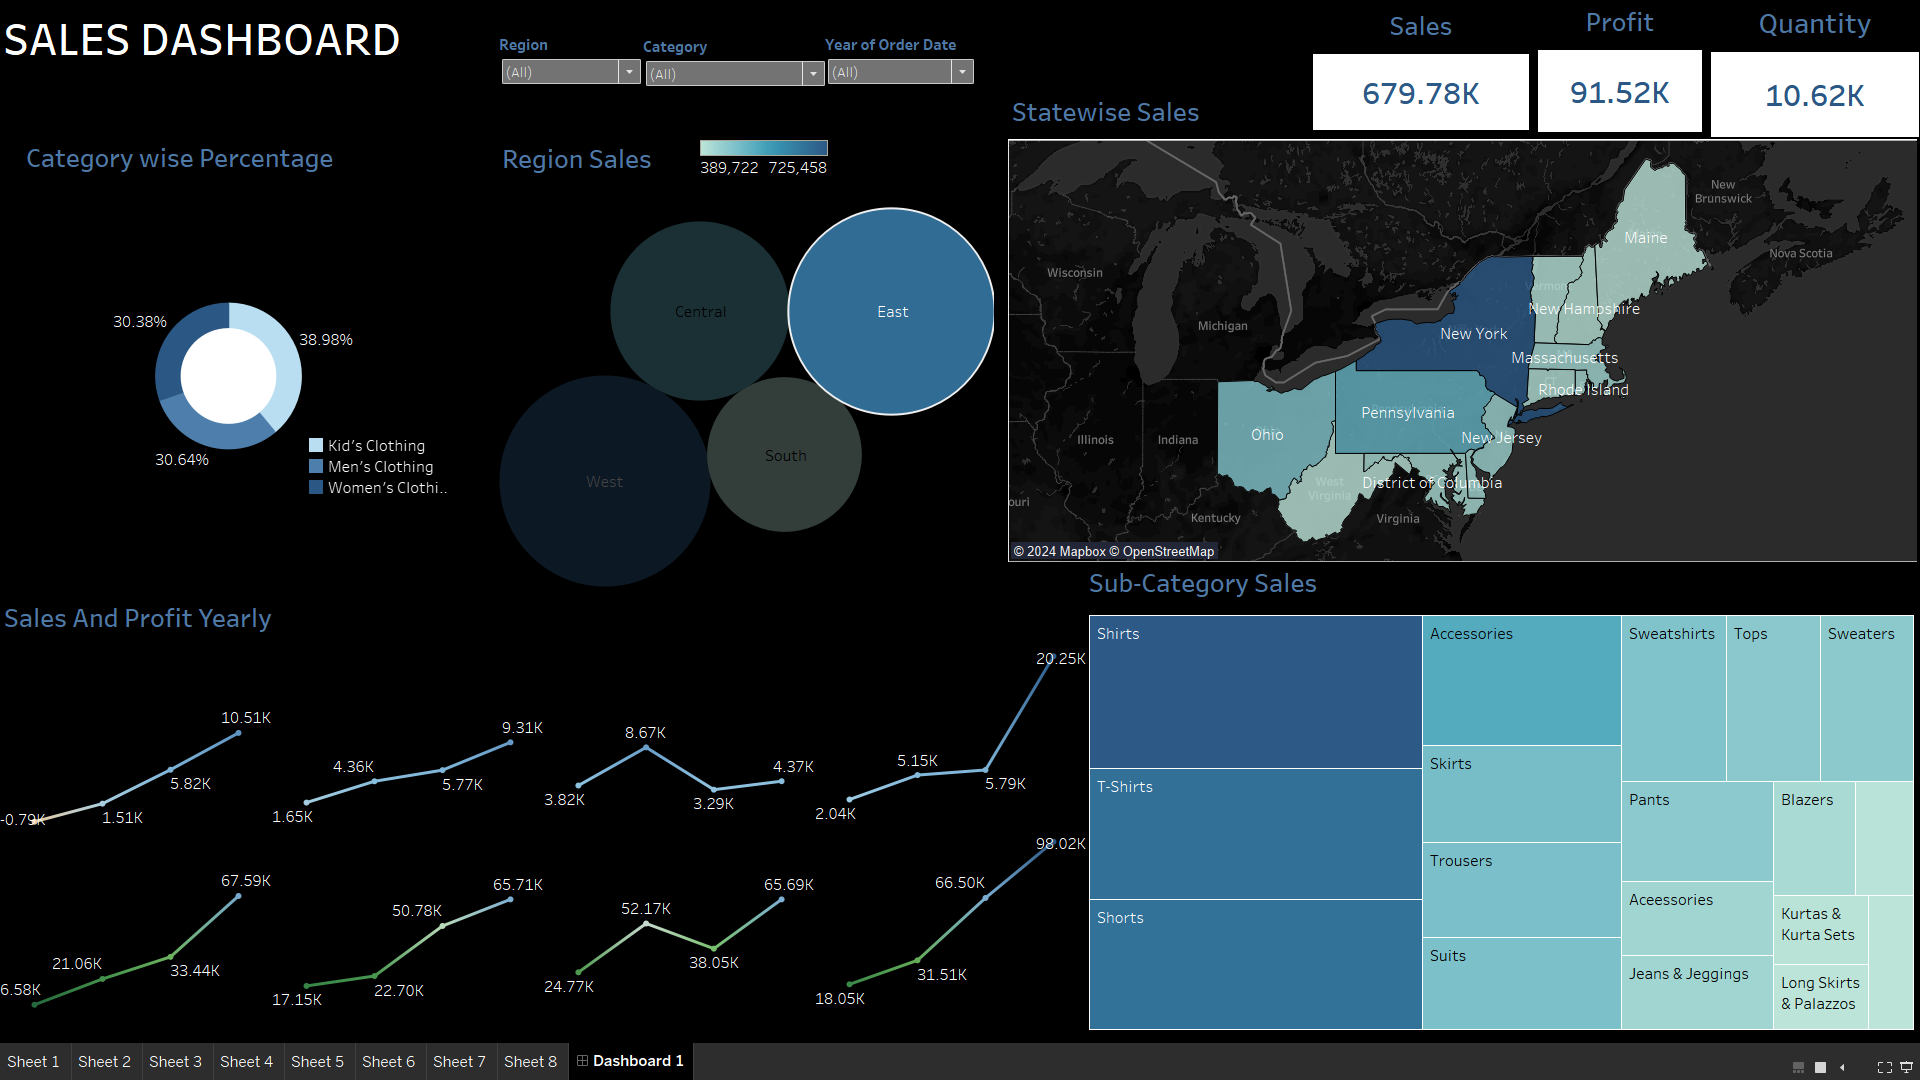

The dashboard page shown, as its layout file describes it:
{"tool":"tableau","page":{"name":"Dashboard 1","canvas":[1000,1000],"units":"permille","ordinal":0},"visuals":[{"type":"blank","box":[0,0,1000,1000]},{"type":"worksheet","title":"Sheet 3","mark":"Automatic","box":[801.2,0,85.3,126.1]},{"type":"worksheet","title":"Sheet 4","mark":"Automatic","box":[891.1,0,108.2,131.6]},{"type":"worksheet","title":"Sheet 2","mark":"Automatic","box":[683.9,3.7,112.7,120.7]},{"type":"text","box":[0,5.9,245,59.9]},{"type":"filter","title":"Sheet 3","param":"[federated.02s150b0oq98tg15a1gx214efzrz].[none:Region:nk]","box":[260.1,32.9,75.4,54.1]},{"type":"filter","title":"Sheet 8","param":"[federated.02s150b0oq98tg15a1gx214efzrz].[yr:Order Date:ok]","box":[429.6,32.9,78.9,50.5]},{"type":"filter","title":"Sheet 2","param":"[federated.02s150b0oq98tg15a1gx214efzrz].[none:Category:nk]","box":[334.9,34.1,96.6,51.7]},{"type":"worksheet","title":"Sheet 6","mark":"Automatic","box":[524.8,85.9,473.7,464.4]},{"type":"legend","title":"Sheet 1","param":"[federated.02s150b0oq98tg15a1gx214efzrz].[sum:Sales:qk]","box":[362.7,109.3,70.6,70.5]},{"type":"worksheet","title":"Sheet 7","mark":"Pie","rows":["Calculation_604326818627776520","Calculation_604326818627797002"],"box":[11.5,130.4,214.8,412.5]},{"type":"worksheet","title":"Sheet 1","mark":"Circle","box":[259.5,131.6,258.3,451.2]},{"type":"legend","title":"Sheet 7","param":"[federated.02s150b0oq98tg15a1gx214efzrz].[none:Category:nk]","box":[159.3,396,77.9,99.9]},{"type":"worksheet","title":"Sheet 5","mark":"Automatic","box":[564.9,538.2,433.3,453.6]},{"type":"worksheet","title":"Sheet 8","mark":"Automatic","rows":["Profit","Sales"],"cols":["Order Date","Order Date"],"box":[0,571.1,566.1,403.1]}]}

Visuals, with their boxes on the dashboard's canvas, which has no fixed pixel size, in thousandths of its width and height (x1, y1, x2, y2). These are canvas units, not pixel positions in the 1920x1080 screenshot, which may show the page scaled, cropped or inside an application window:
blank: <box>0,0,1000,1000</box>
"Sheet 3" worksheet: <box>801,0,886,126</box>
"Sheet 4" worksheet: <box>891,0,999,132</box>
"Sheet 2" worksheet: <box>684,4,797,124</box>
text: <box>0,6,245,66</box>
"Sheet 3" filter: <box>260,33,336,87</box>
"Sheet 8" filter: <box>430,33,508,83</box>
"Sheet 2" filter: <box>335,34,432,86</box>
"Sheet 6" worksheet: <box>525,86,998,550</box>
"Sheet 1" legend: <box>363,109,433,180</box>
"Sheet 7" worksheet (Pie marks): <box>12,130,226,543</box>
"Sheet 1" worksheet (Circle marks): <box>260,132,518,583</box>
"Sheet 7" legend: <box>159,396,237,496</box>
"Sheet 5" worksheet: <box>565,538,998,992</box>
"Sheet 8" worksheet: <box>0,571,566,974</box>
